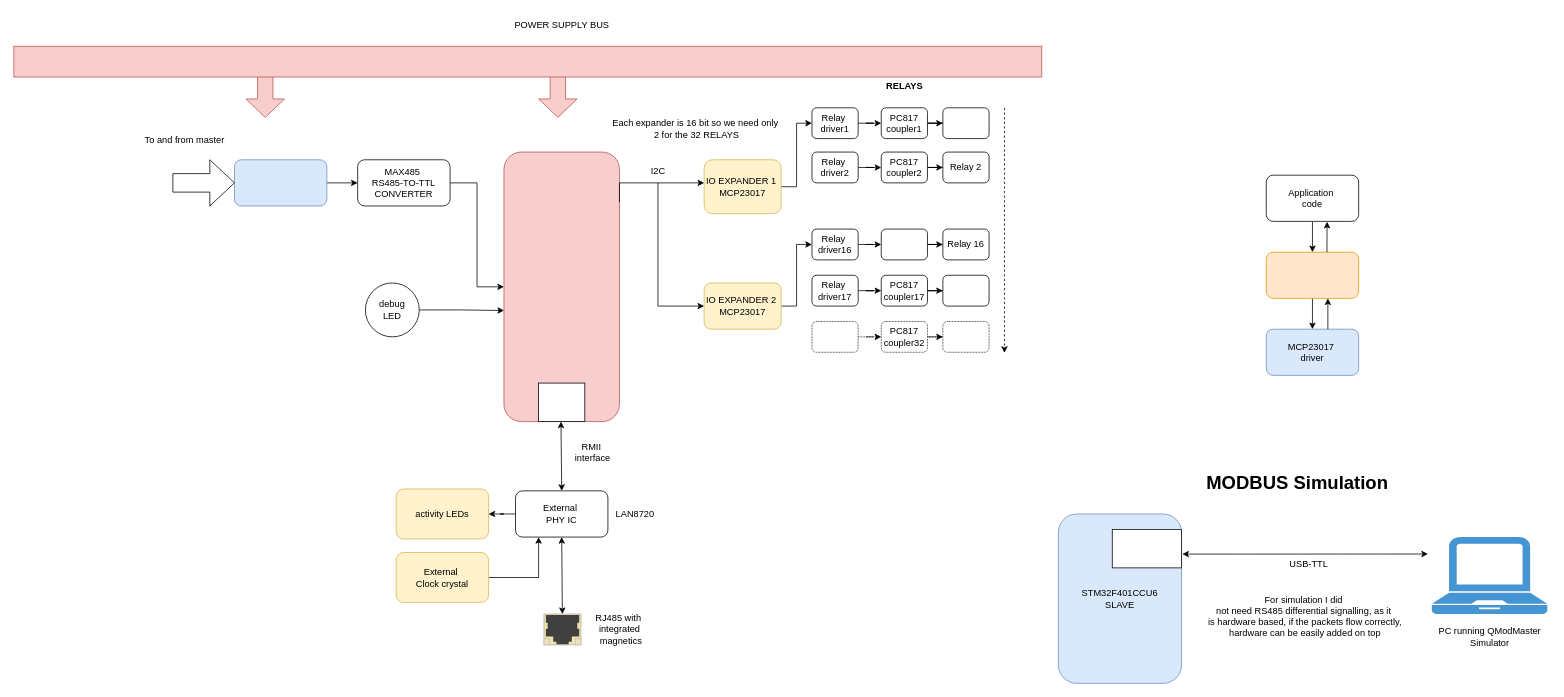
Some shapes in this 1564 by 697 pixel diagram are drawn without their labels. The box of each missing label's shape, as (x1, y1, x2, y2) in pixels:
PC817 coupler16: (880, 228, 927, 260)
Relay 1: (942, 107, 989, 139)
Relay 17: (942, 275, 989, 306)
Relay 32: (942, 321, 989, 352)
Relay Driver/API: (1265, 251, 1359, 298)
Relay driver32: (811, 321, 858, 352)
RS485 termination: (234, 159, 327, 206)
STM32 MAC: (538, 382, 585, 422)
STM32F401CCU6: (503, 151, 619, 422)
UART2: (1111, 529, 1182, 568)
